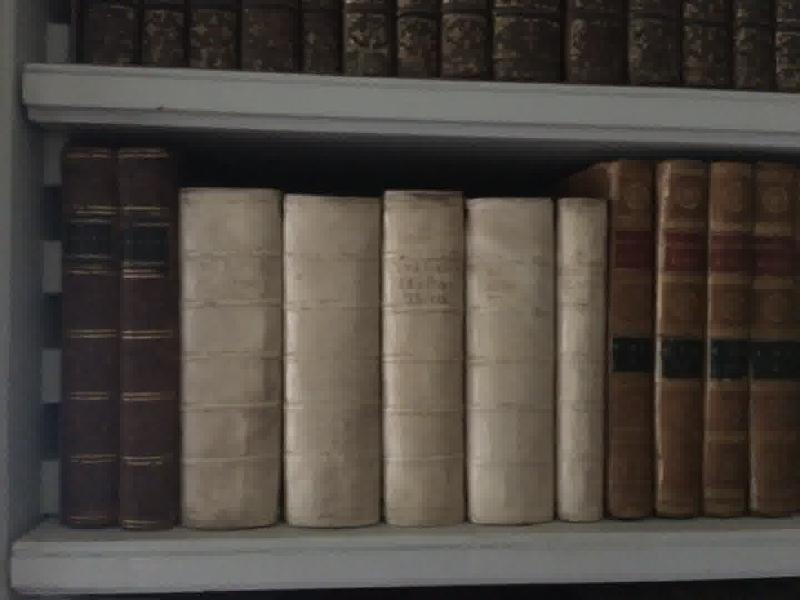Kk4-1_2: (59, 134, 184, 536)
Kk4-3_7: (174, 179, 610, 537)
Kk4-8_13: (605, 154, 800, 527)
